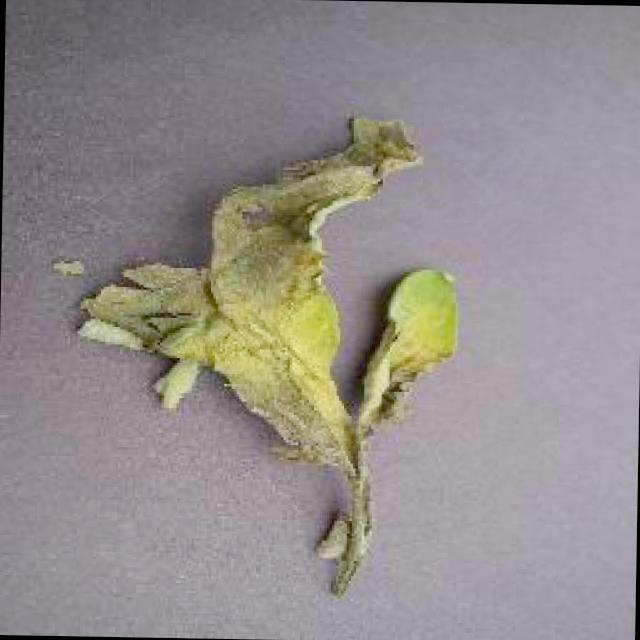Tomato late blight leaf: (67, 110, 464, 598)
